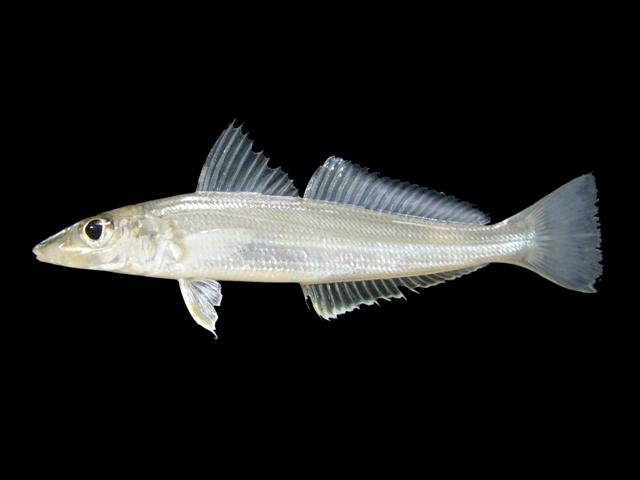kiss: (33, 179, 609, 305)
